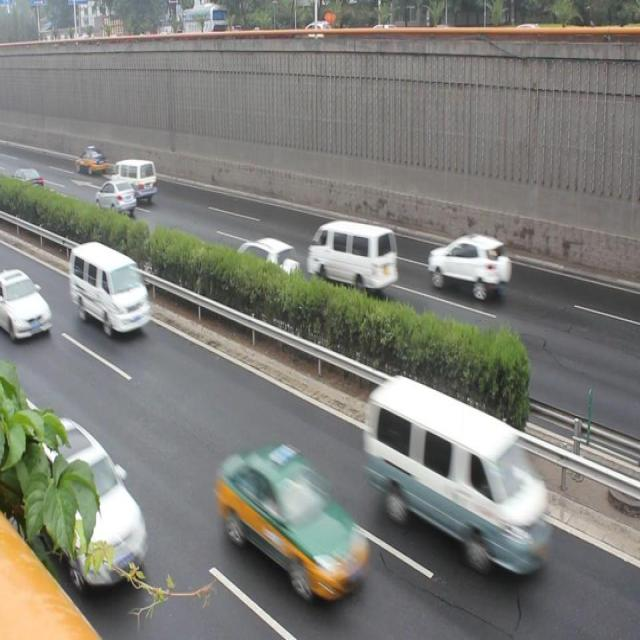car: (220, 436, 370, 605), (28, 408, 155, 584), (425, 223, 514, 300), (230, 226, 303, 296), (1, 262, 52, 346), (94, 176, 138, 219)
truck: (361, 362, 558, 574), (64, 235, 152, 335), (306, 210, 398, 292), (108, 148, 162, 198)
